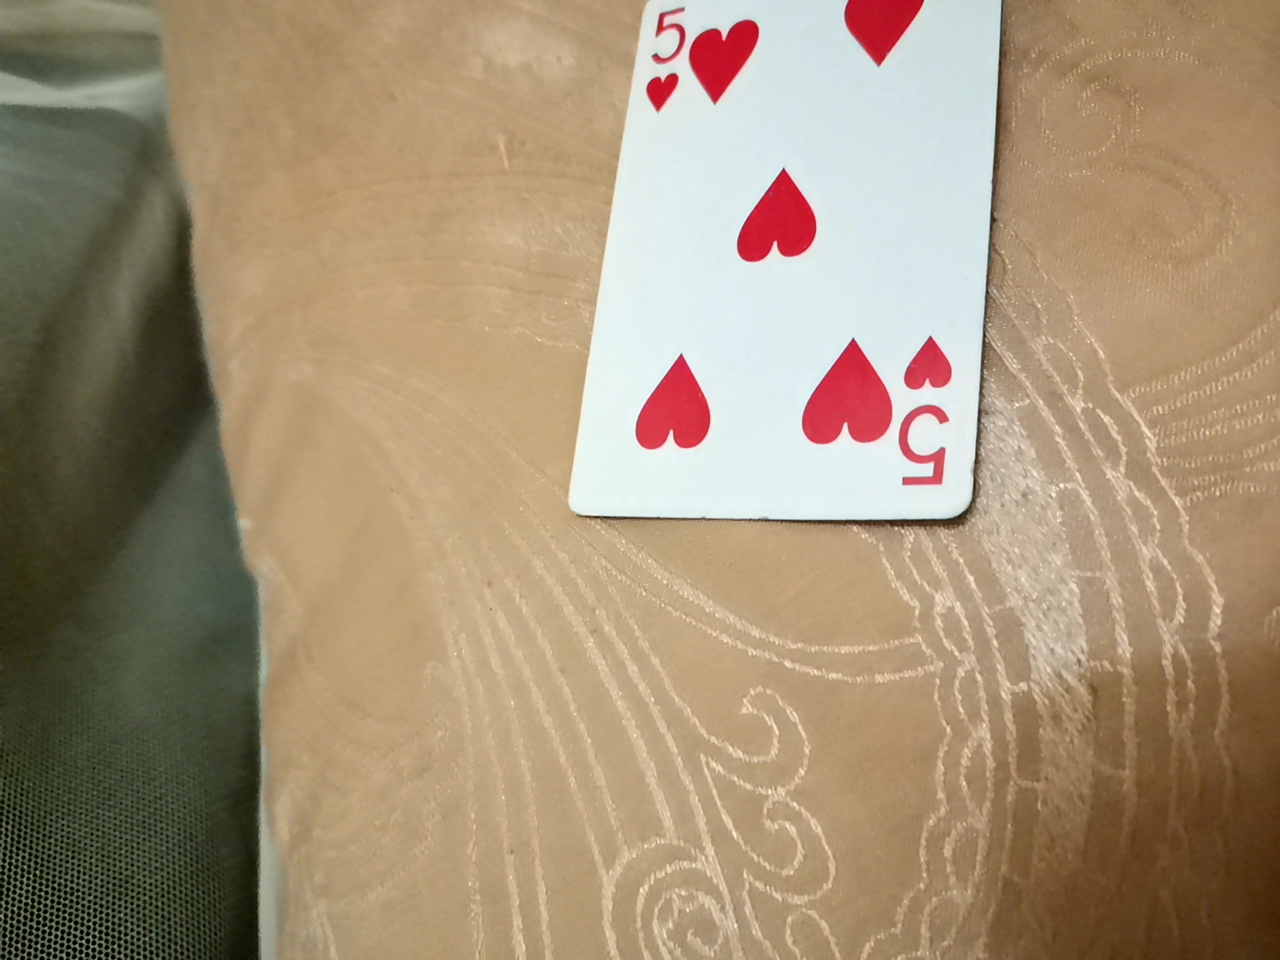hx 5: (591, 0, 1052, 444)
